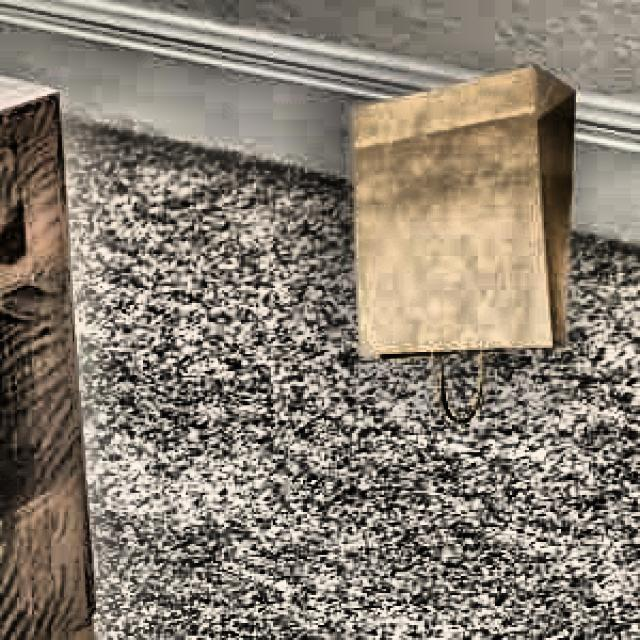Paper-bag: (345, 56, 583, 423)
